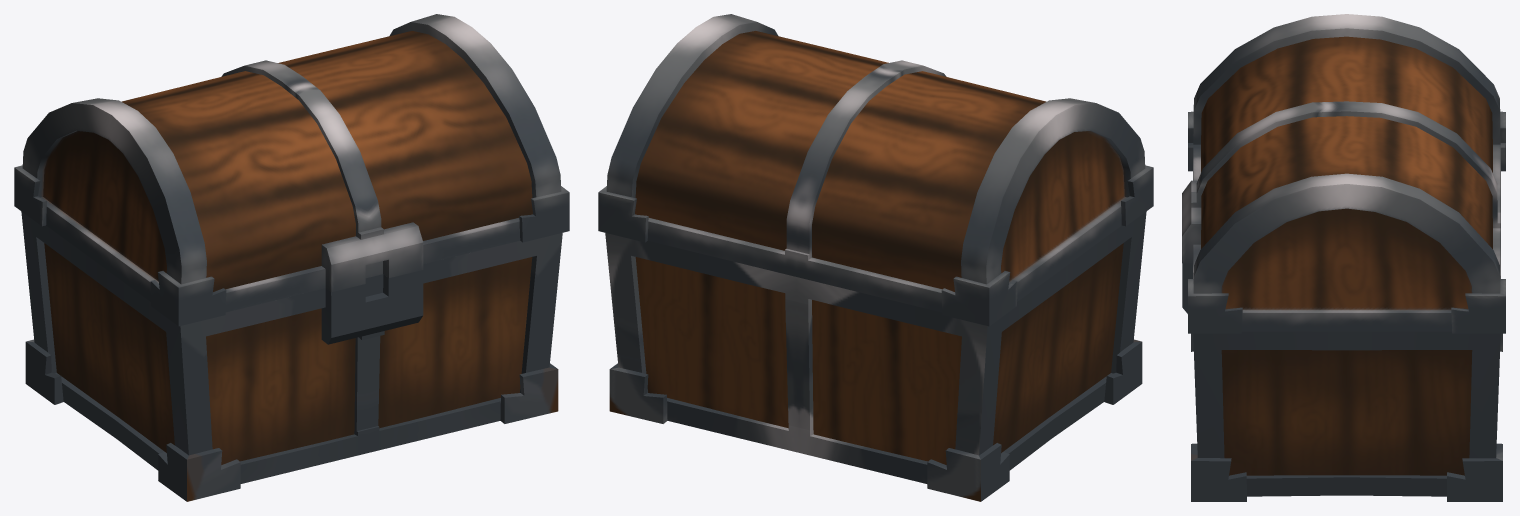
File: bauseparado.fbx
3 renders of one model, left to right at view 1: azimuth 30°, elevation 25°; view 2: azimuth 150°, elevation 25°; view 3: azimuth 270°, elevation 25°, orthographic. The views are drawn at different scales.
Parts seen in each view (by area): view 1: polySurface23, polySurface28; view 2: polySurface23, polySurface28; view 3: polySurface23, polySurface28.
Boxes of the visible parts, x1,y1,x2,y2 form: polySurface23: [14, 14, 569, 326]; polySurface28: [21, 211, 562, 501]; polySurface23: [598, 14, 1153, 326]; polySurface28: [605, 211, 1146, 501]; polySurface23: [1182, 14, 1505, 333]; polySurface28: [1182, 263, 1502, 501].
Size of the model in its own units: 4.72 by 3.76 by 3.5.
